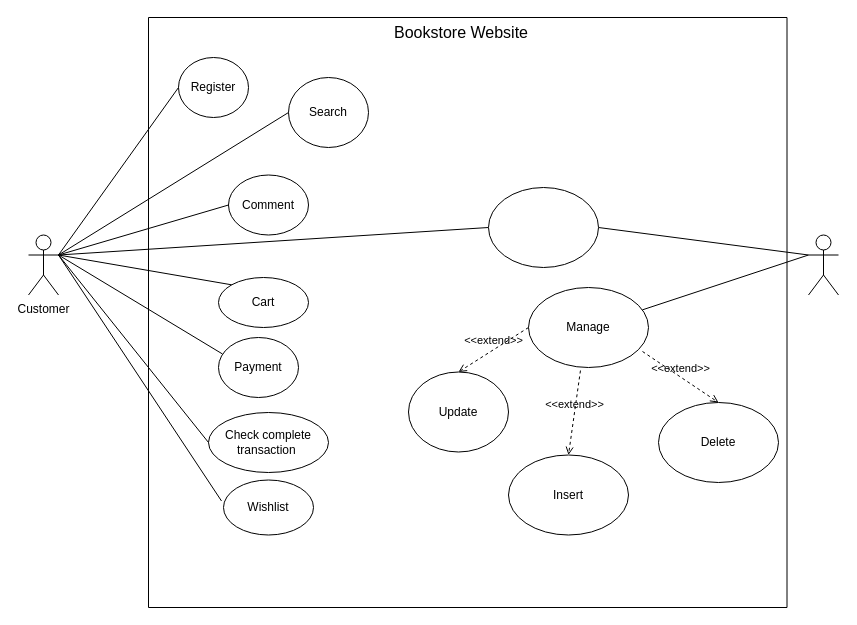
Image size: 857x625. Some labels were removed from this diagram. The shapes that lost their labels are listed below. From the top down, each one's box as (x1, y1, x2, y2) in pixels, then its label:
(488, 186, 598, 268): Login
(808, 234, 838, 295): Admin
